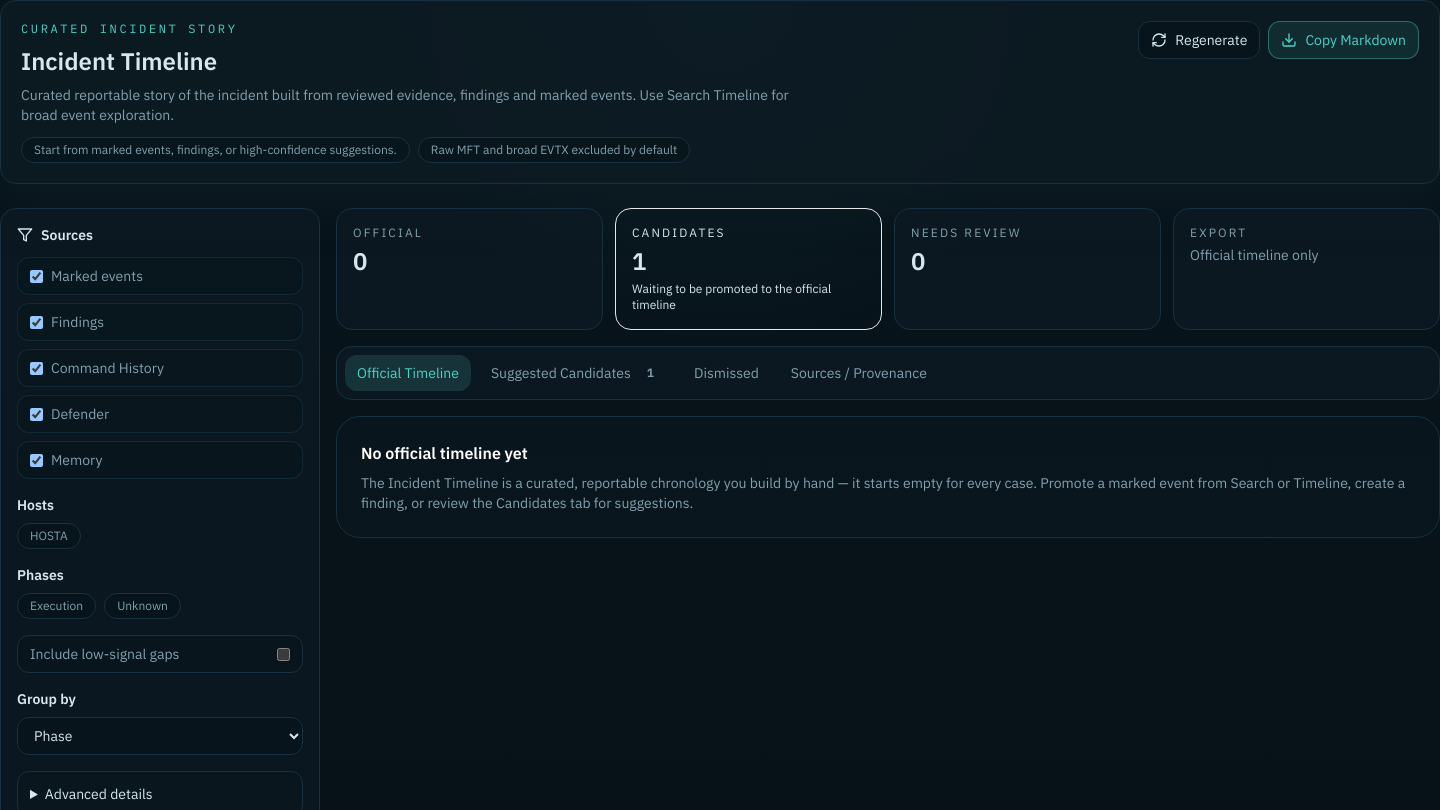
Test case: IncidentTimelinePage › can accept and dismiss suggested candidates
This screenshot has width=1440, height=810.
Click the button "Suggested Candidates 1": (576,373) [479,355,674,391]
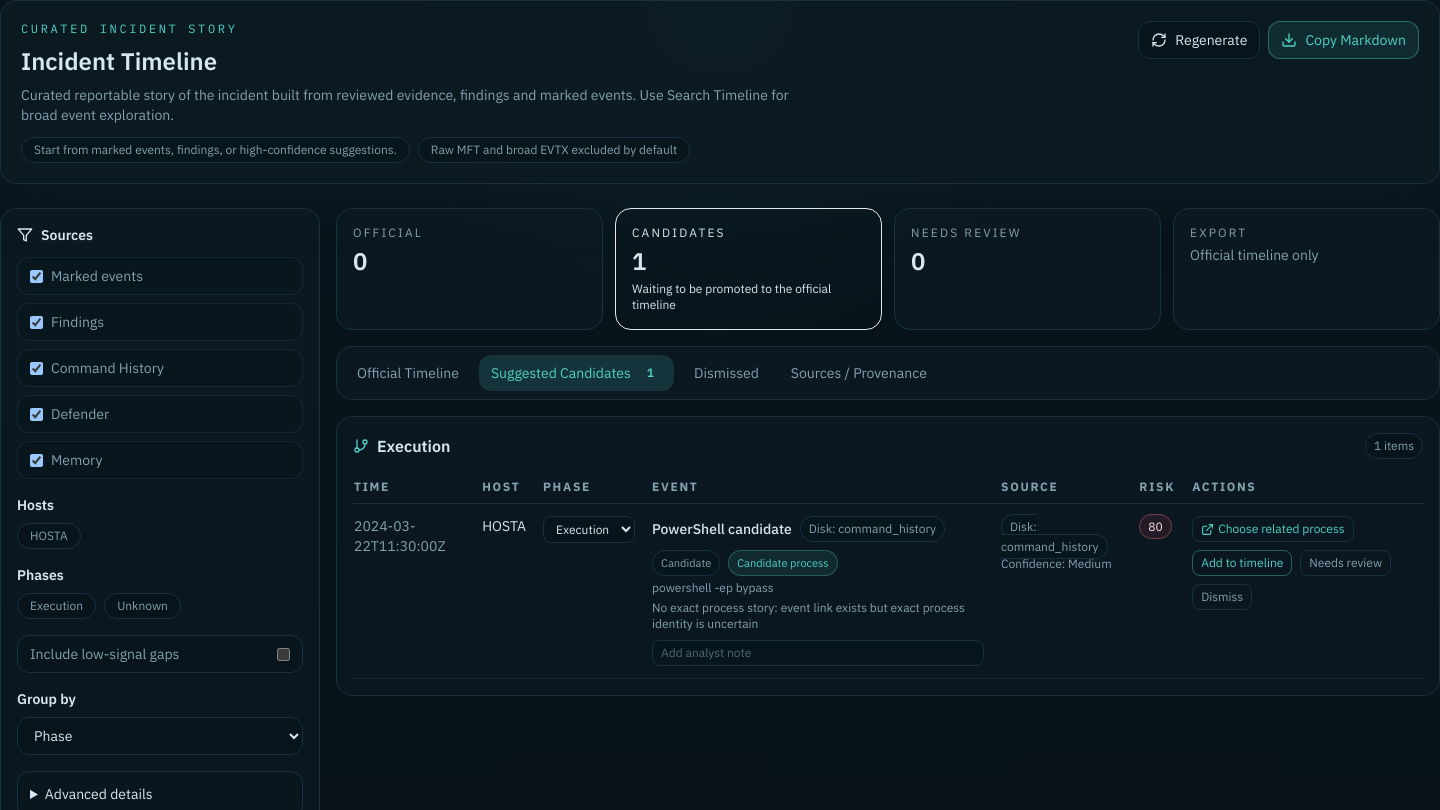
Now the text "PowerShell candidate" is shown, box [652,519,792,539]
Click the button "Needs review": (1346,563) [1300,550,1391,576]
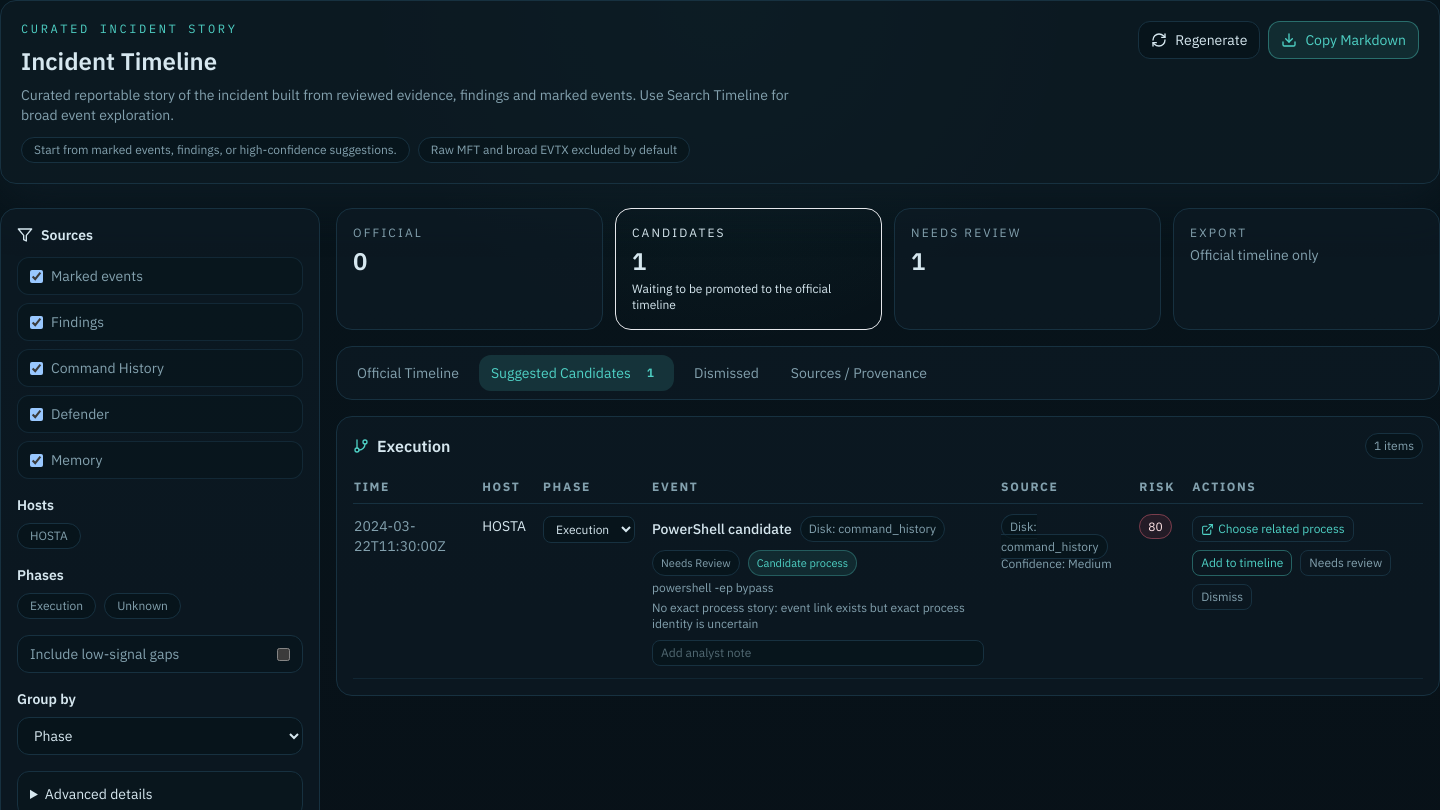
Now the text "Needs Review" is shown, box [652,550,740,576]
Click the button "Add to timeline": (1242,563) [1192,550,1292,576]
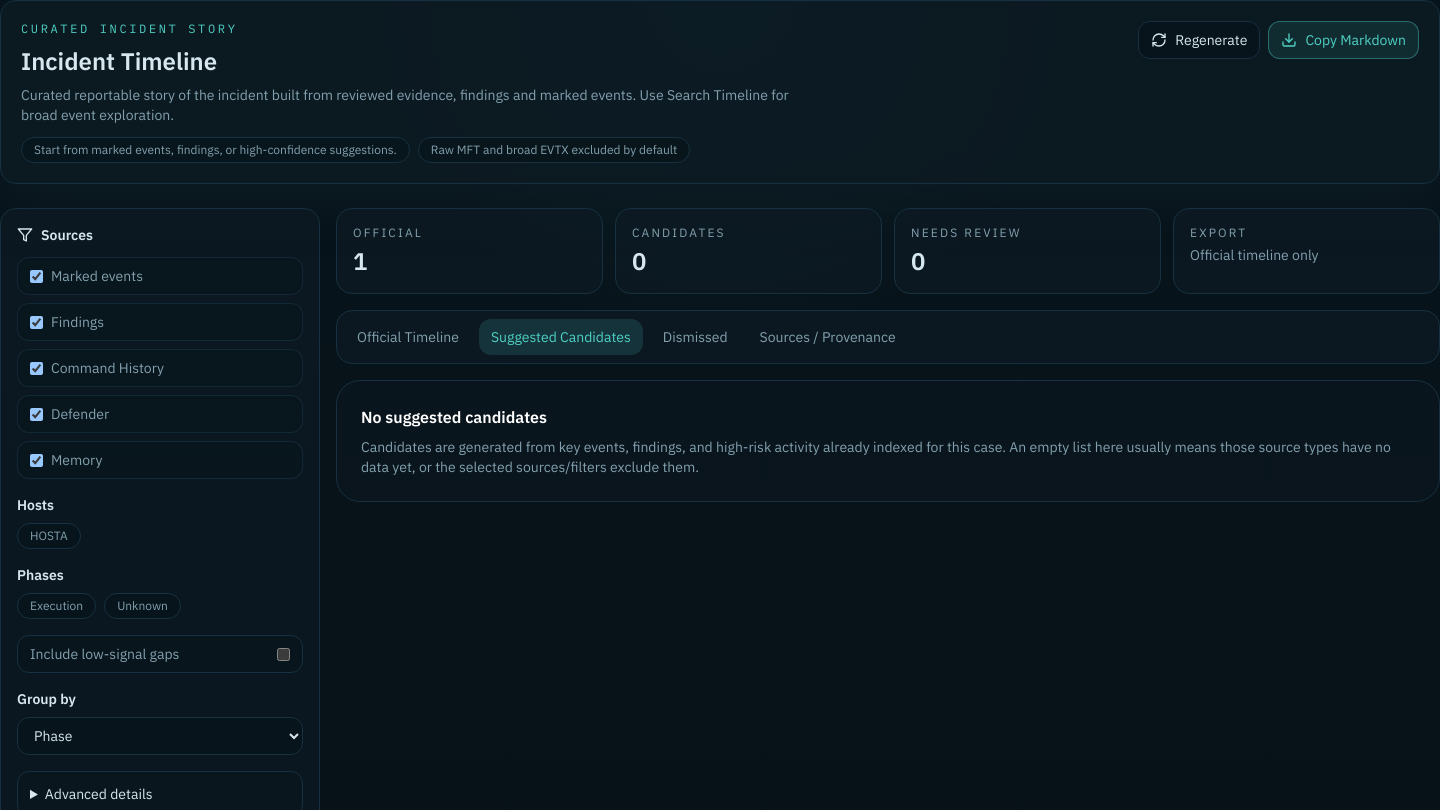
Click the button "Official Timeline": (408,337) [345,319,471,355]
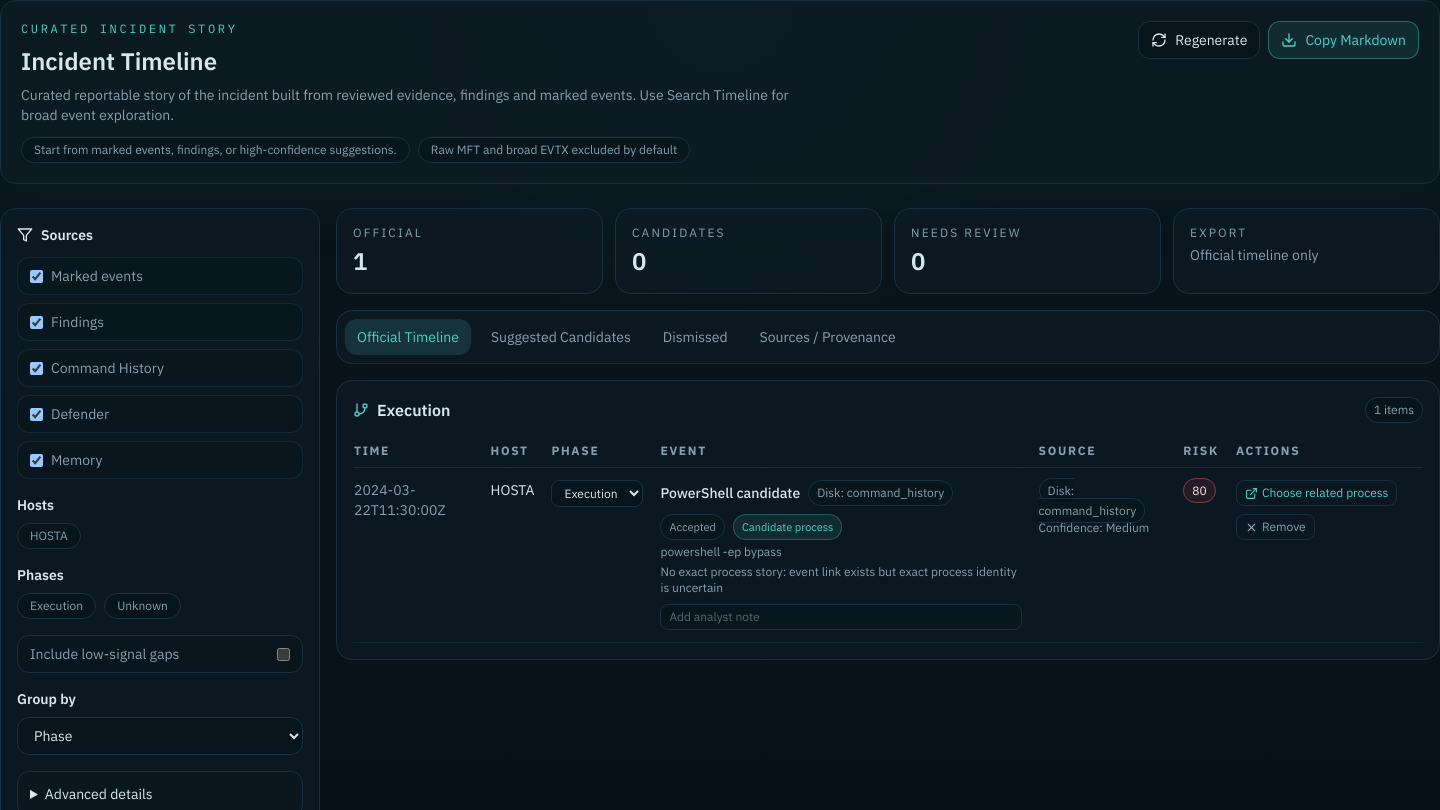
Now the text "PowerShell candidate" is shown, box [660,483,800,503]
